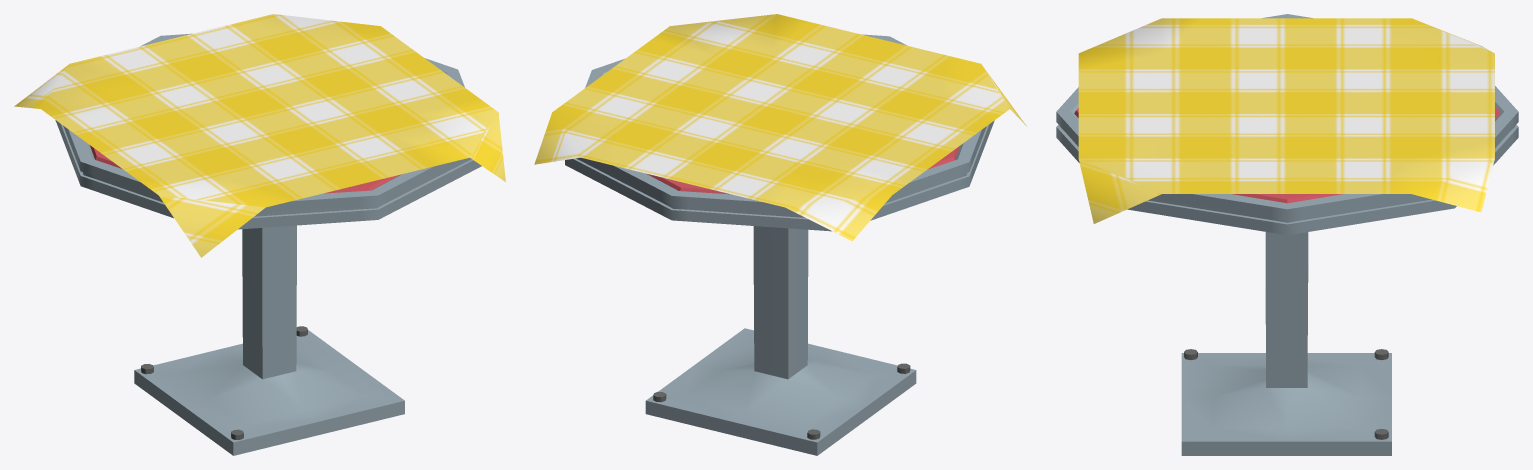
Rendered from Yellow Table.fbx.
3 views of the same model, side by side, from view 1: azimuth 30°, elevation 25°; view 2: azimuth 150°, elevation 25°; view 3: azimuth 270°, elevation 25° (orthographic). The views are drawn at different scales.
Visible parts, largest first — view 1: pPlane1, pCube7; view 2: pPlane1, pCube7; view 3: pPlane1, pCube7.
Boxes of the visible parts, box(x1,y1,x2,y2) form: pPlane1: box(14, 14, 505, 257); pCube7: box(55, 33, 481, 455); pPlane1: box(534, 14, 1026, 241); pCube7: box(565, 34, 994, 455); pPlane1: box(1078, 18, 1494, 223); pCube7: box(1056, 14, 1518, 455).
Size of the model in its own units: 14 by 10.21 by 14.
